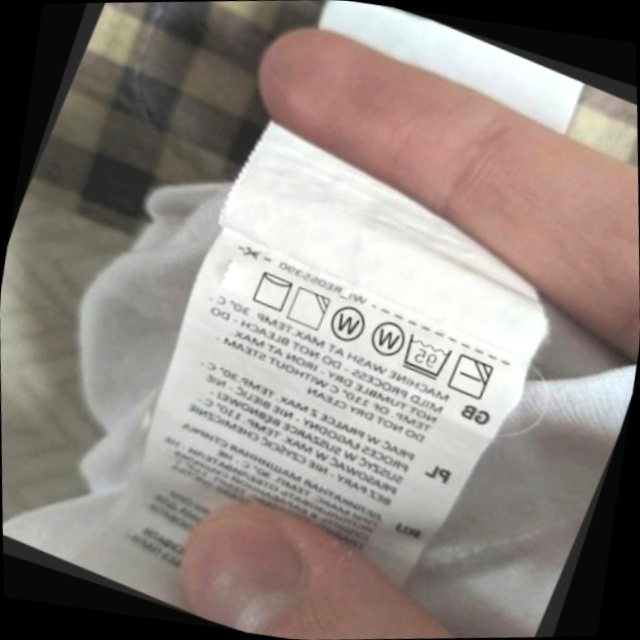95C: (391, 325, 461, 389)
dry_flat_in_shade: (440, 345, 503, 409)
line_dry: (242, 261, 302, 320)
shade_dry: (279, 278, 338, 338)
wet_clean: (359, 307, 416, 367), (319, 295, 376, 354)
